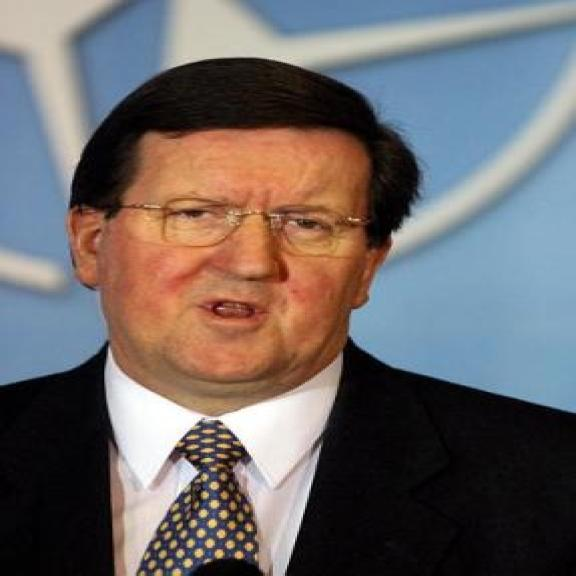face: (63, 126, 389, 386)
